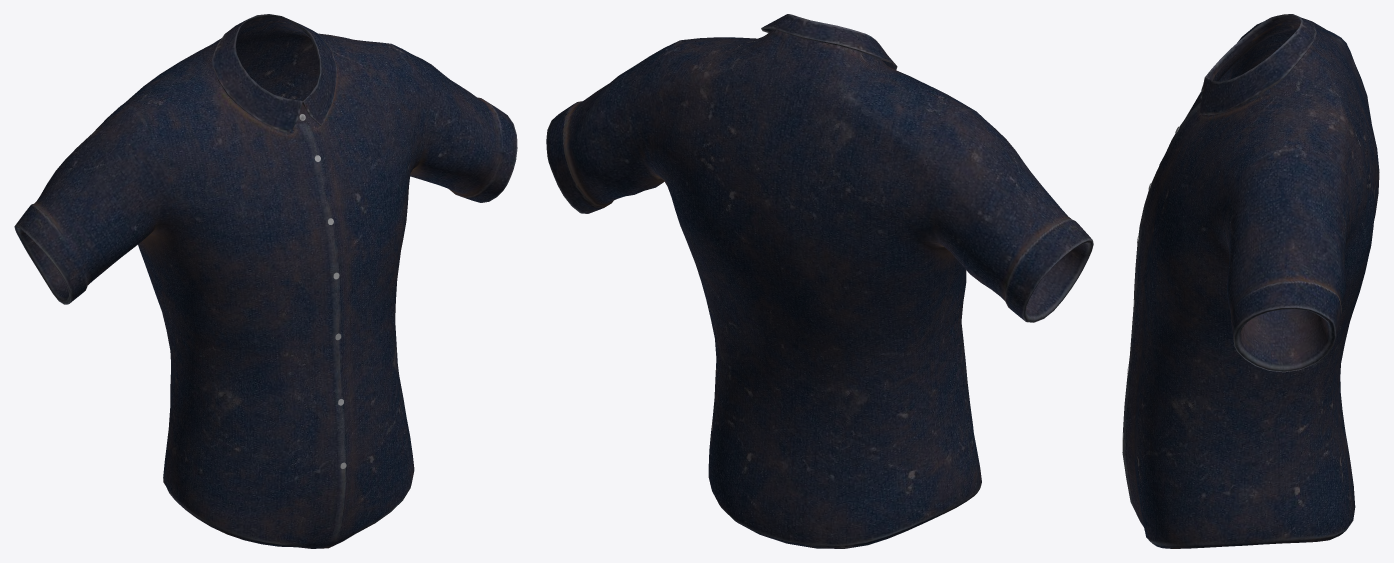
Rendered from camisa_corta_ok.glb.
3 views of the same model, side by side, from view 1: azimuth 30°, elevation 25°; view 2: azimuth 150°, elevation 25°; view 3: azimuth 270°, elevation 25° (orthographic). The views are drawn at different scales.
Parts seen in each view (by area): view 1: Shirt_Low; view 2: Shirt_Low; view 3: Shirt_Low.
Part boxes in pixels (x1,y1,x2,y2): Shirt_Low: (14, 14, 517, 548); Shirt_Low: (546, 14, 1093, 548); Shirt_Low: (1122, 14, 1379, 548).
Size of the model in its own units: 2 by 1.91 by 0.8703.
Materials: 1 (1 with a texture image).
